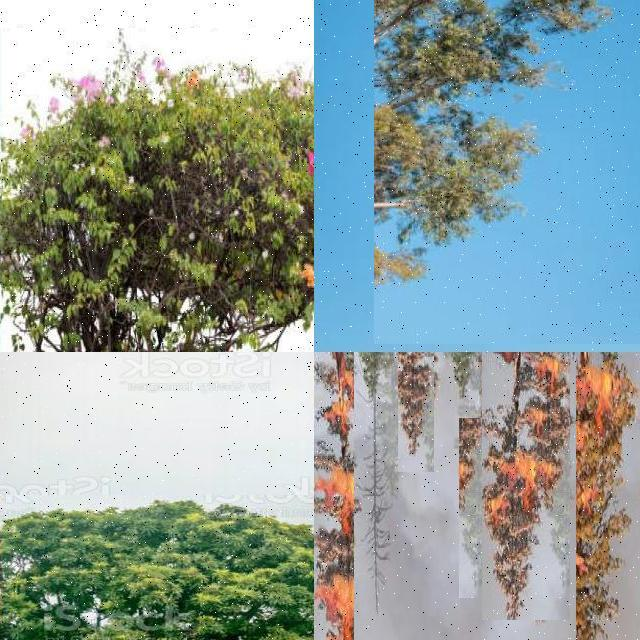tree: (0, 28, 314, 352), (374, 0, 640, 344), (0, 495, 314, 640), (482, 352, 570, 620), (576, 352, 640, 640), (314, 352, 354, 640), (459, 418, 505, 598), (358, 380, 390, 624), (398, 352, 434, 472), (445, 352, 479, 440), (356, 352, 388, 424), (592, 352, 620, 423), (620, 352, 640, 416), (483, 352, 503, 390)
